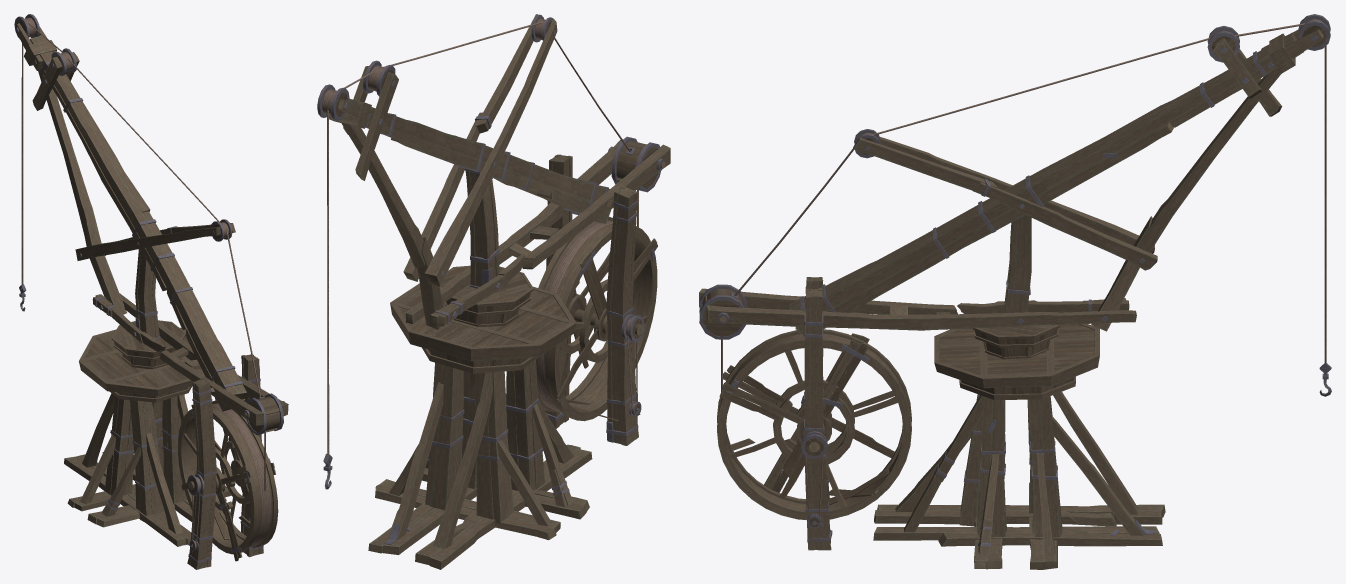
The model's file is Homeworld_Exterior_Cyjy_Thing_Prop_ChasmMechanical_01_Lod0.fbx.
3 views of the same model, side by side, from view 1: azimuth 30°, elevation 25°; view 2: azimuth 150°, elevation 25°; view 3: azimuth 270°, elevation 25° (orthographic). The views are drawn at different scales.
Parts seen in each view (by area): view 1: Area_Common_Build_Mine_Tadiao_01_Lod0; view 2: Area_Common_Build_Mine_Tadiao_01_Lod0; view 3: Area_Common_Build_Mine_Tadiao_01_Lod0.
Part boxes in pixels (left/top/right/bottom): Area_Common_Build_Mine_Tadiao_01_Lod0: left=14, top=14, right=288, bottom=569; Area_Common_Build_Mine_Tadiao_01_Lod0: left=317, top=14, right=670, bottom=569; Area_Common_Build_Mine_Tadiao_01_Lod0: left=699, top=14, right=1331, bottom=569.
Size of what is drawn, in the model's own units: 12.47 by 35.64 by 39.98.
